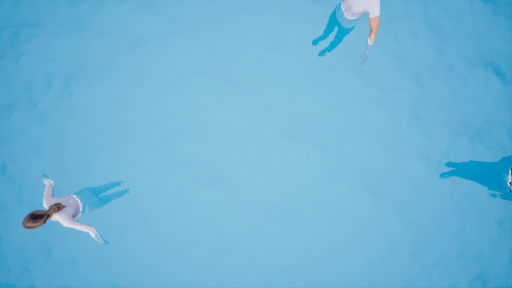person: (19, 174, 125, 250), (313, 2, 386, 66)
